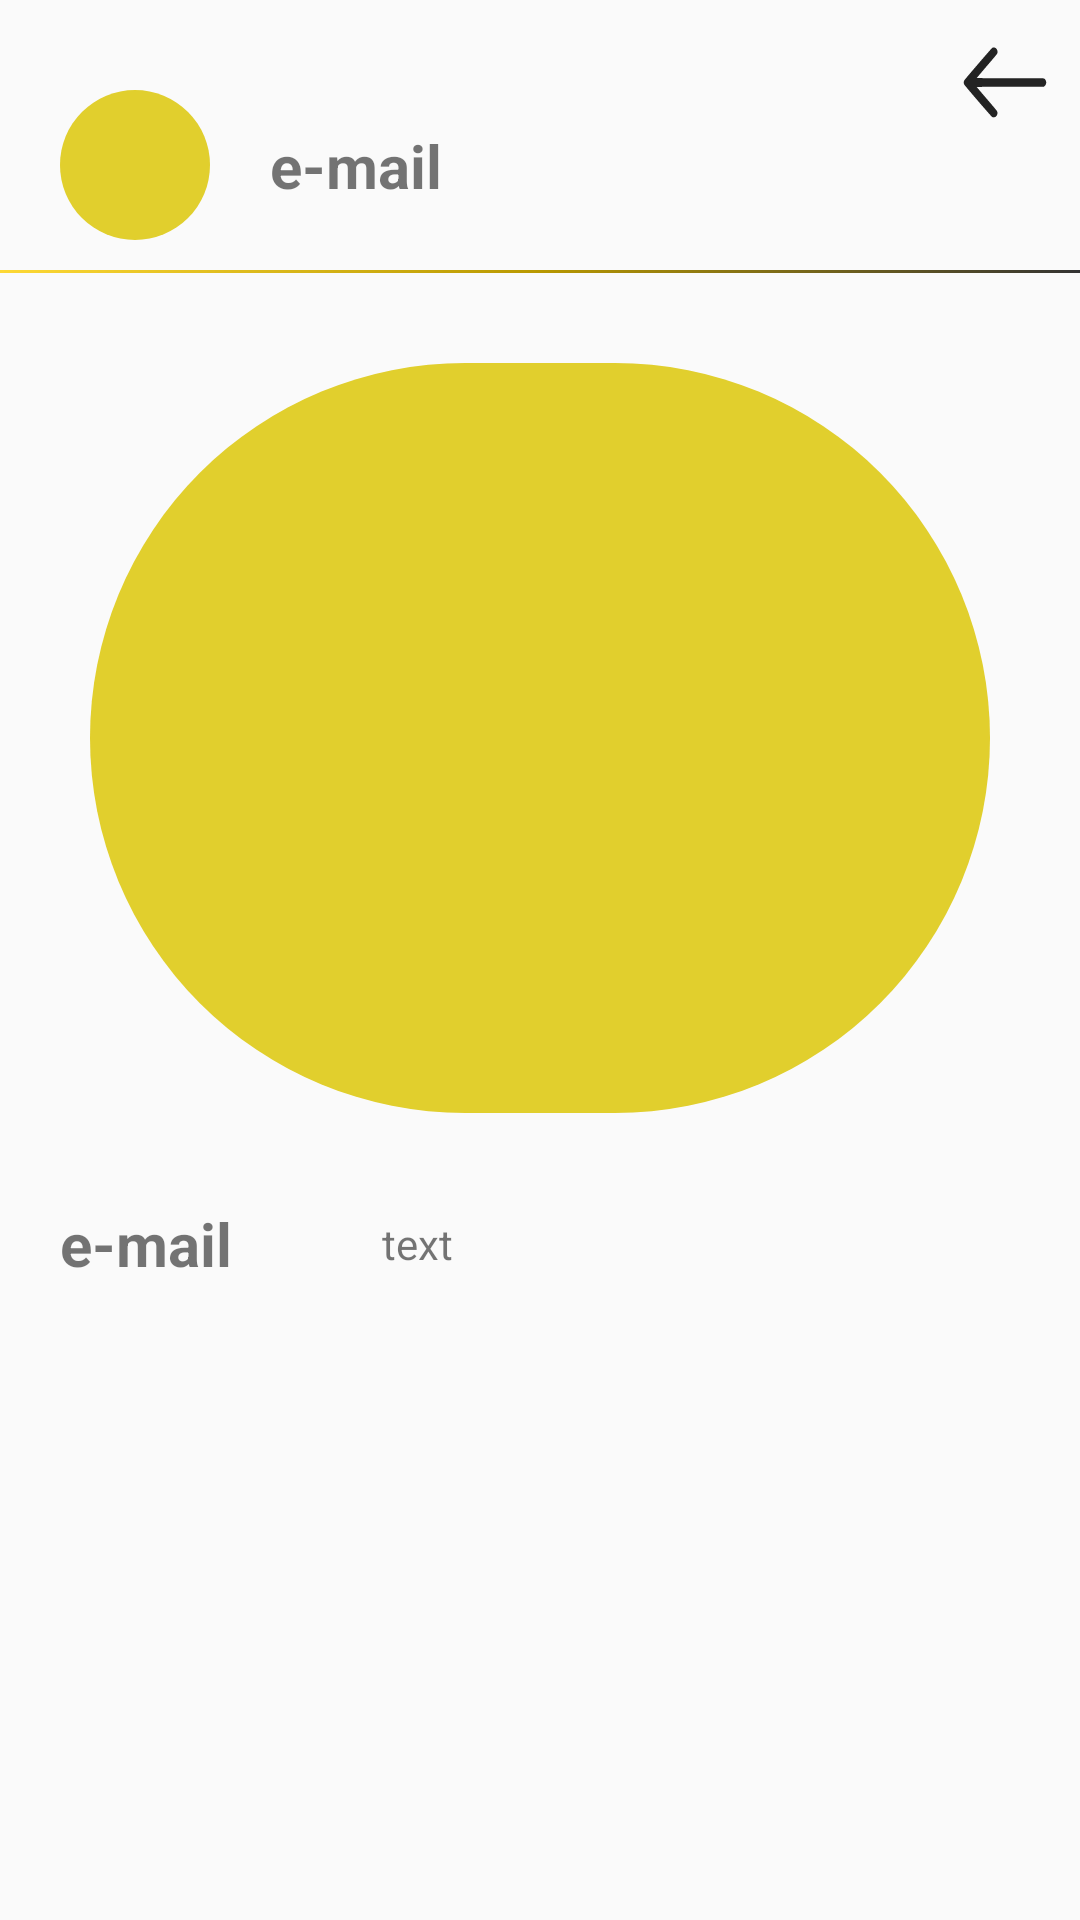

Screen size 1080*1920. Icon name, then its center in pixels as (x,y):
back: (1005,82)
